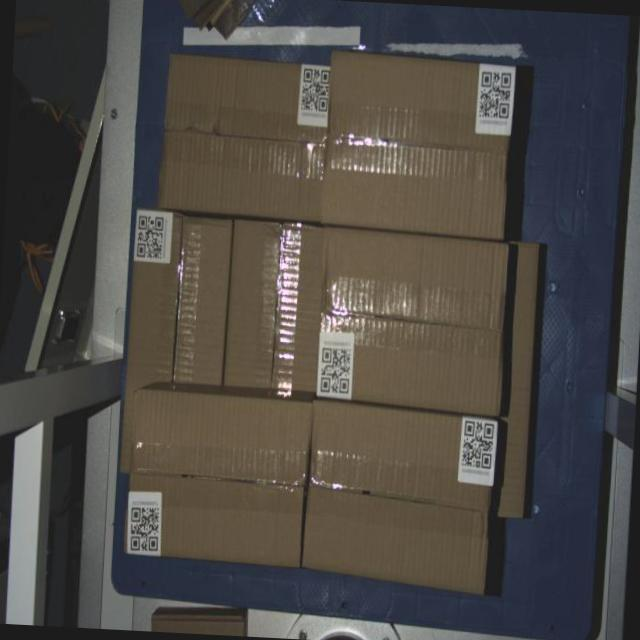box: (302, 400, 498, 595), (315, 226, 510, 416), (322, 51, 516, 239), (123, 388, 311, 568), (158, 54, 332, 221)
